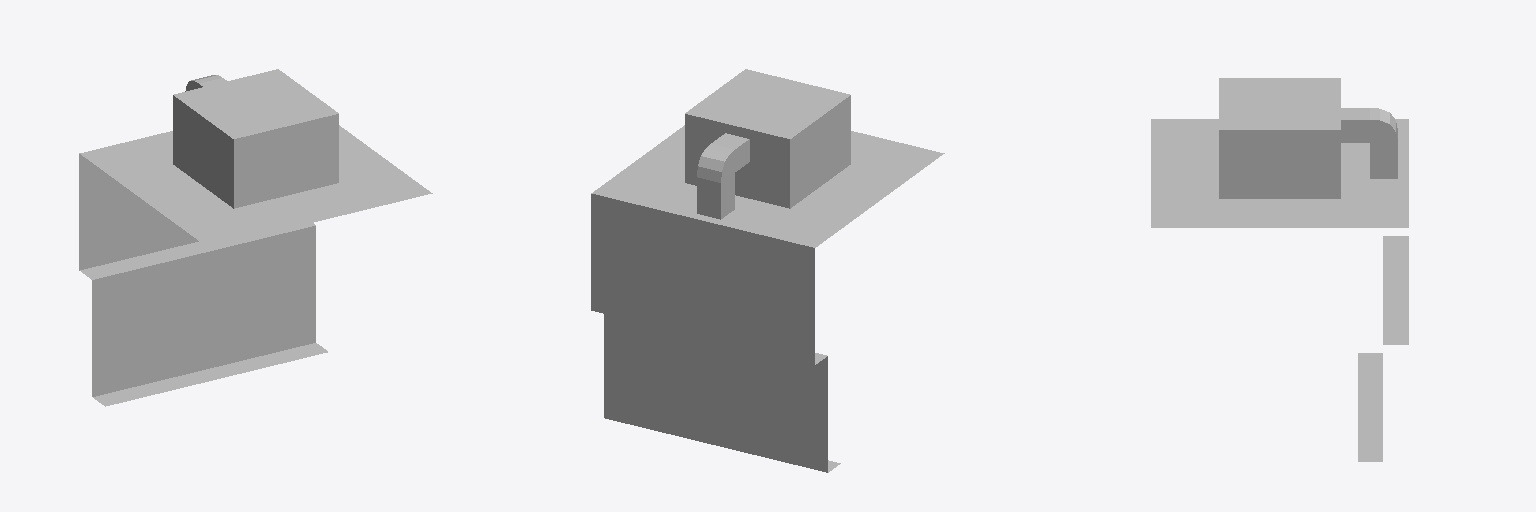
File: Straight_Edge_Wall_Roof_Outer_Corner.obj
The picture shows the model from 3 angles: view 1: azimuth 30°, elevation 25°; view 2: azimuth 150°, elevation 25°; view 3: azimuth 270°, elevation 25°; orthographic projection.
Visible parts, largest first — view 1: Straight_Edge_Wall_Roof_Outer_Corner; view 2: Straight_Edge_Wall_Roof_Outer_Corner; view 3: Straight_Edge_Wall_Roof_Outer_Corner.
Part boxes in pixels (x1,y1,x2,y2): Straight_Edge_Wall_Roof_Outer_Corner: (79,69,432,406); Straight_Edge_Wall_Roof_Outer_Corner: (591,69,944,472); Straight_Edge_Wall_Roof_Outer_Corner: (1151,78,1408,461).
Bounding box in the file's own units: 1 × 1.3 × 1.